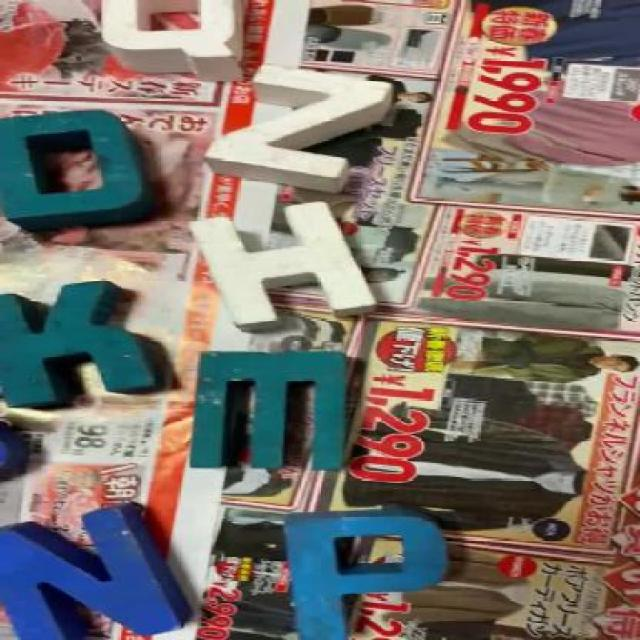D: (3, 114, 166, 231)
H: (196, 204, 376, 322)
K: (1, 282, 167, 406)
M: (186, 351, 360, 469)
N: (4, 503, 199, 639)
P: (289, 510, 451, 636)
Z: (200, 68, 389, 198)
